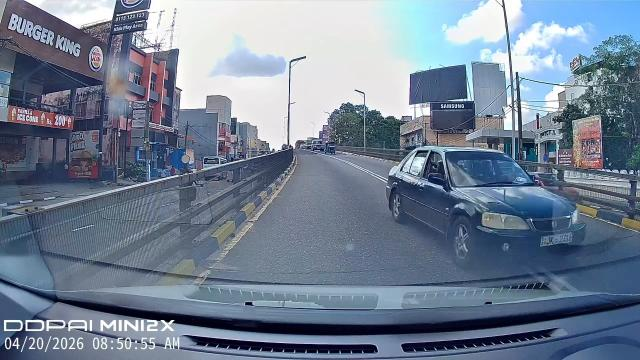illegal overtaking: (380, 137, 595, 272)
number plate: (538, 232, 577, 249)
